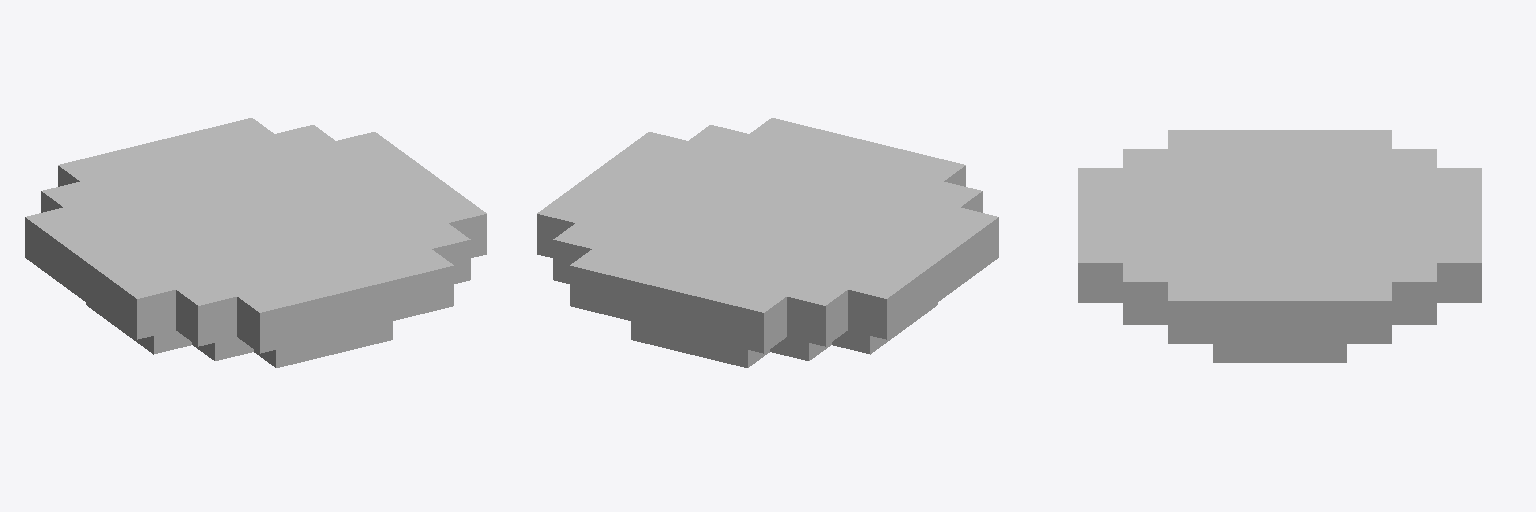
File: bebedero gato.obj
3 renders of one model, left to right at view 1: azimuth 30°, elevation 25°; view 2: azimuth 150°, elevation 25°; view 3: azimuth 270°, elevation 25°, orthographic.
Visible parts, largest first — view 1: object 1; view 2: object 1; view 3: object 1.
Boxes of the visible parts, <box> form: object 1: <box>25,118,486,367</box>; object 1: <box>537,118,998,367</box>; object 1: <box>1078,130,1481,362</box>.
Size of the model in its own units: 0.9 by 0.2 by 0.9.